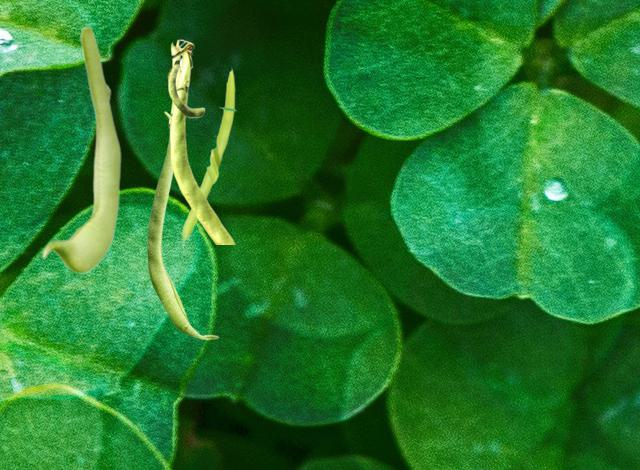french_bean: (41, 25, 120, 272), (147, 111, 218, 339), (167, 39, 234, 243), (179, 66, 236, 261)
